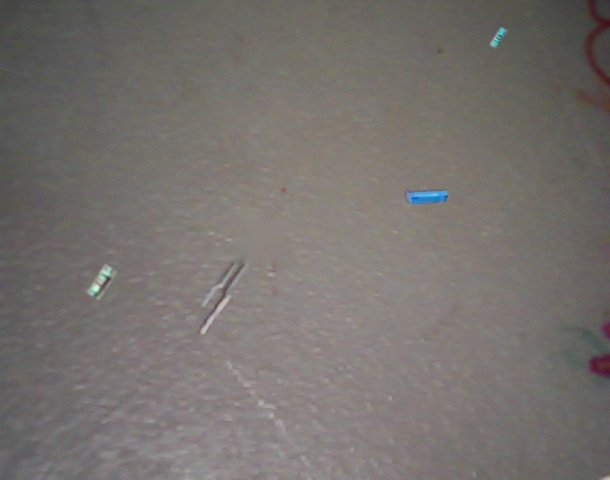capacitor: (406, 190, 448, 204)
resistor: (87, 264, 117, 300), (490, 27, 507, 48)
